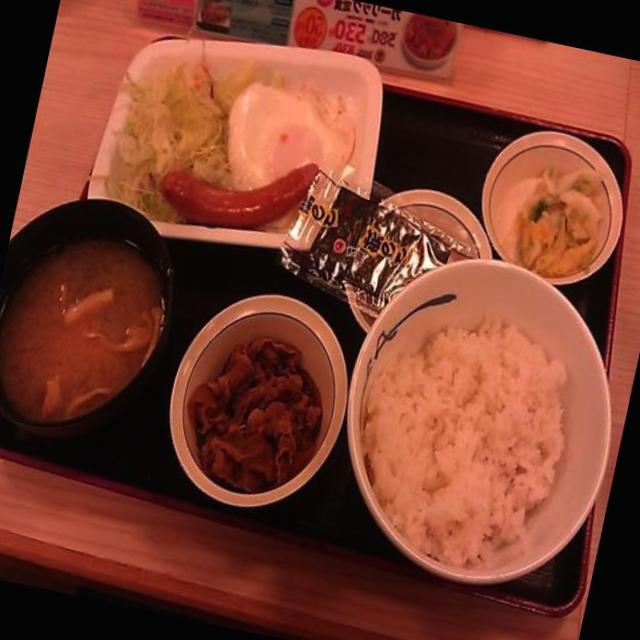Rice: (339, 292, 587, 571)
